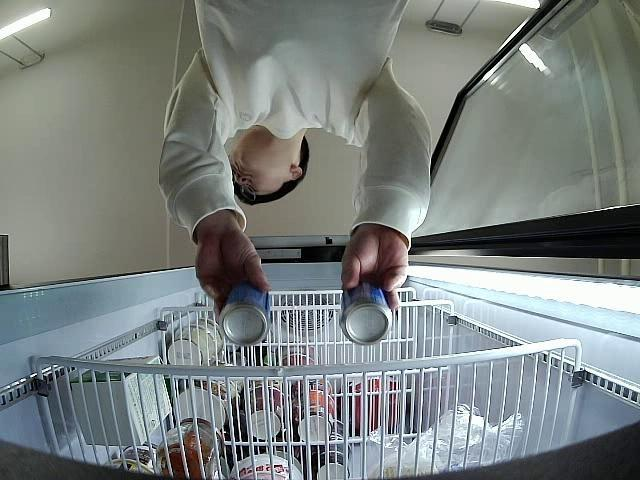15_letsbe: (339, 284, 394, 346), (220, 288, 272, 344)
